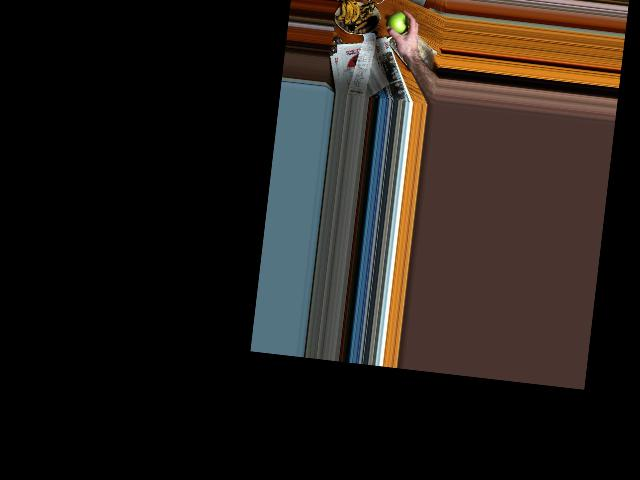apple: (384, 11, 410, 36)
